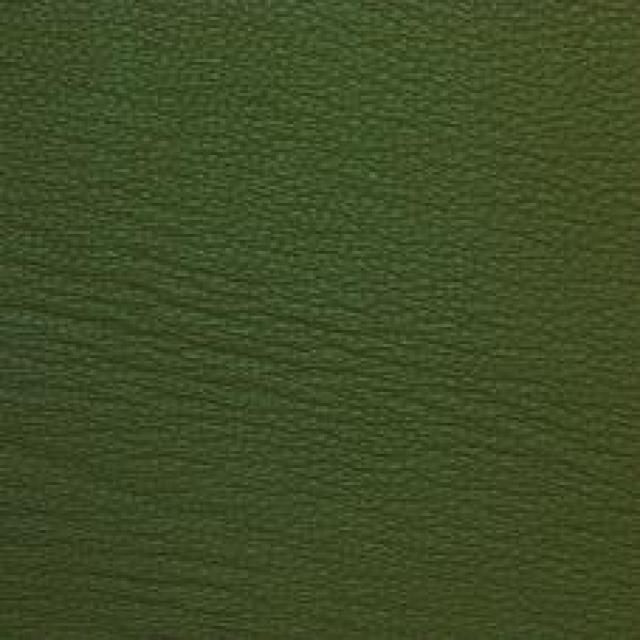Growth Marks: (70, 256, 419, 432)
